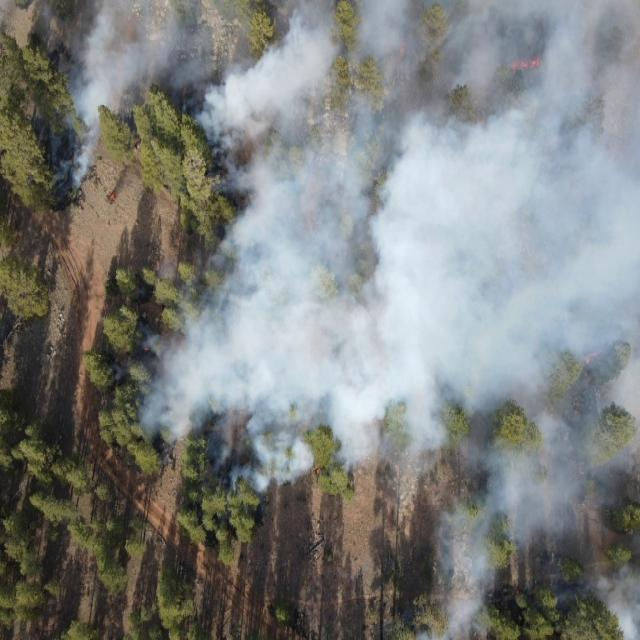fire: (506, 58, 543, 72), (582, 348, 600, 366), (397, 38, 408, 62), (568, 406, 581, 420), (107, 190, 117, 201), (312, 466, 323, 476), (141, 344, 151, 355), (514, 588, 522, 596)
smoke: (207, 136, 640, 495), (35, 0, 640, 136), (429, 497, 640, 604), (132, 246, 206, 459), (43, 137, 100, 206), (386, 606, 496, 640), (608, 605, 640, 640)
